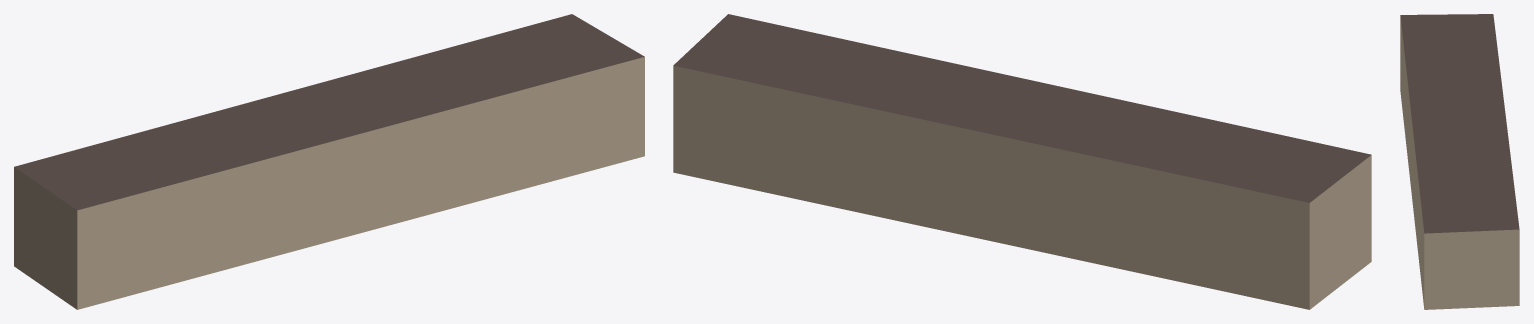
3 renders of one model, left to right at view 1: azimuth 30°, elevation 25°; view 2: azimuth 150°, elevation 25°; view 3: azimuth 270°, elevation 25°, orthographic. The views are drawn at different scales.
Parts seen in each view (by area): view 1: HP-w766414487; view 2: HP-w766414487; view 3: HP-w766414487.
Part boxes in pixels (left/top/right/bottom): HP-w766414487: left=14, top=14, right=644, bottom=309; HP-w766414487: left=673, top=14, right=1371, bottom=309; HP-w766414487: left=1400, top=14, right=1519, bottom=309.
Size of the model in its own units: 55.46 by 9 by 12.72.
